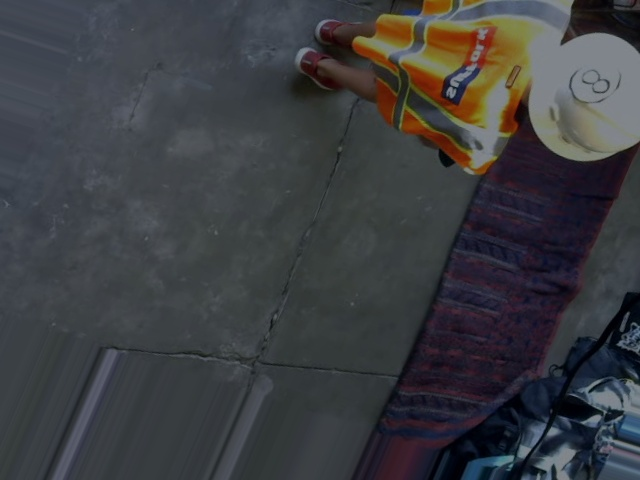eight: (562, 49, 628, 110)
